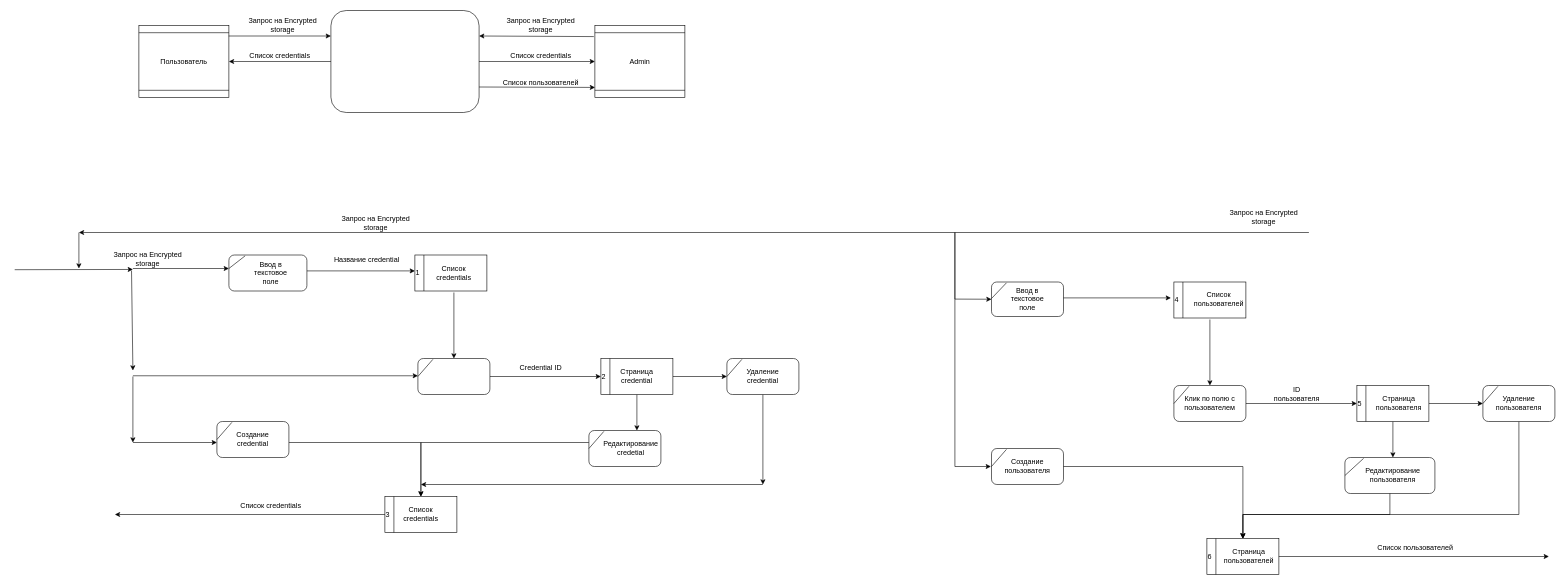
This 1565x586 diagram has some shape labels left out. The centre of each missing label's shape, as x and y in pixels:
"Encrypted Storage" goes at [404,61].
"Клик по полю с credential" goes at [453,376].
